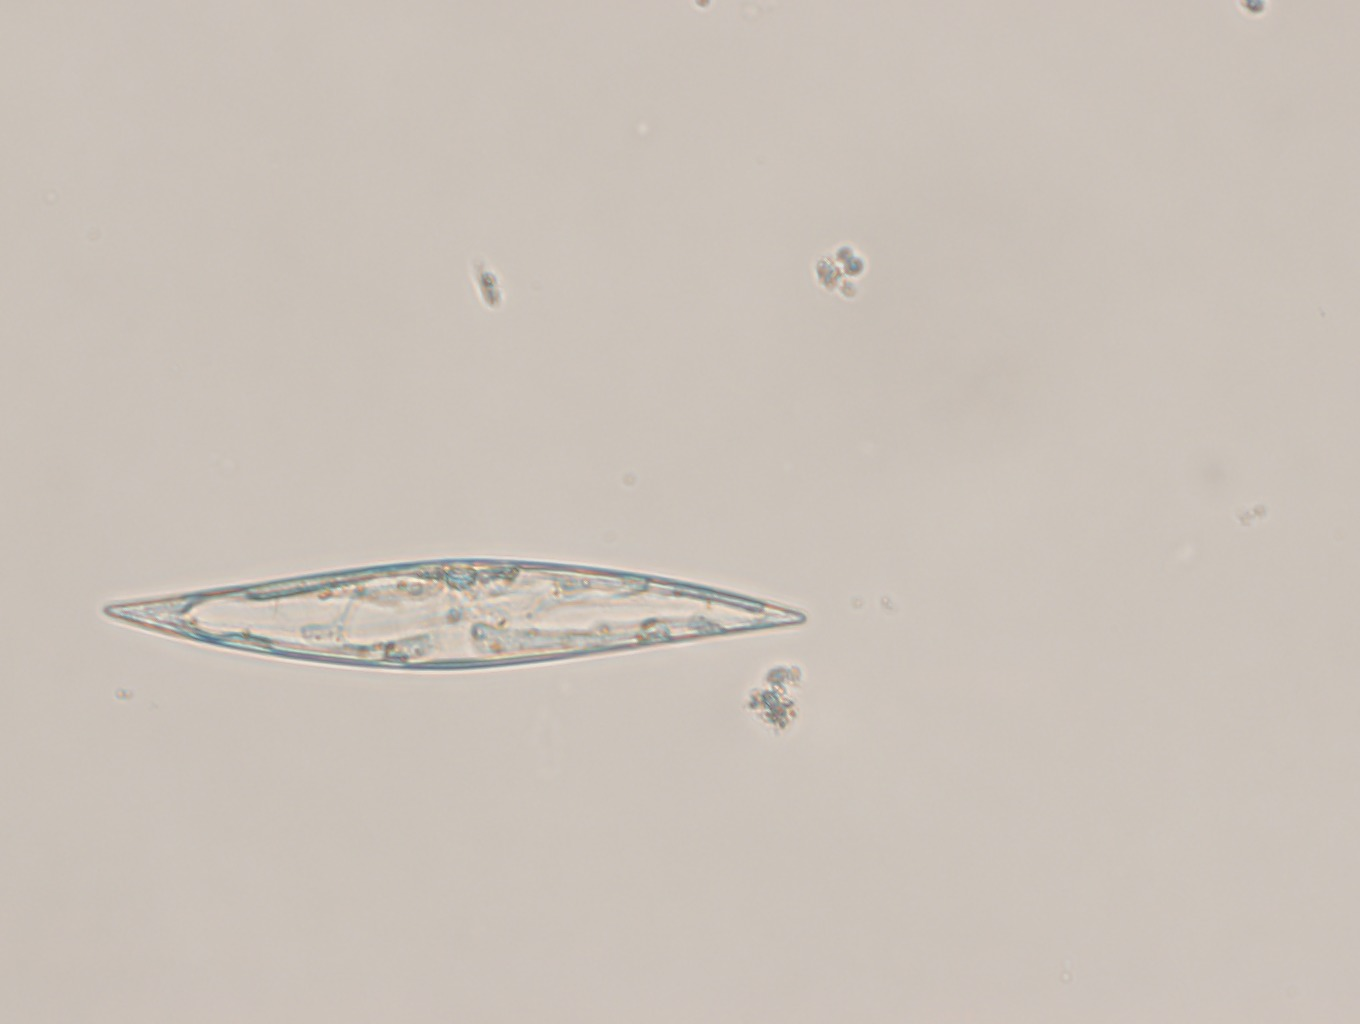pleurosigma pelagicum: (101, 556, 808, 670)
